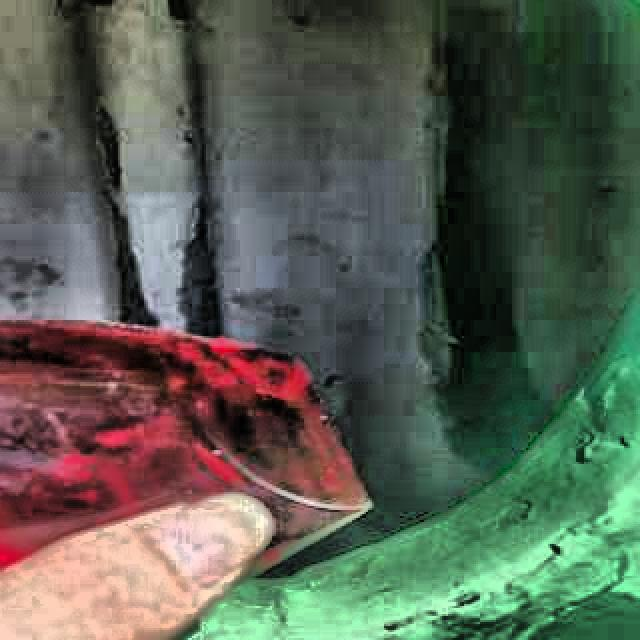glass: (0, 323, 371, 572)
